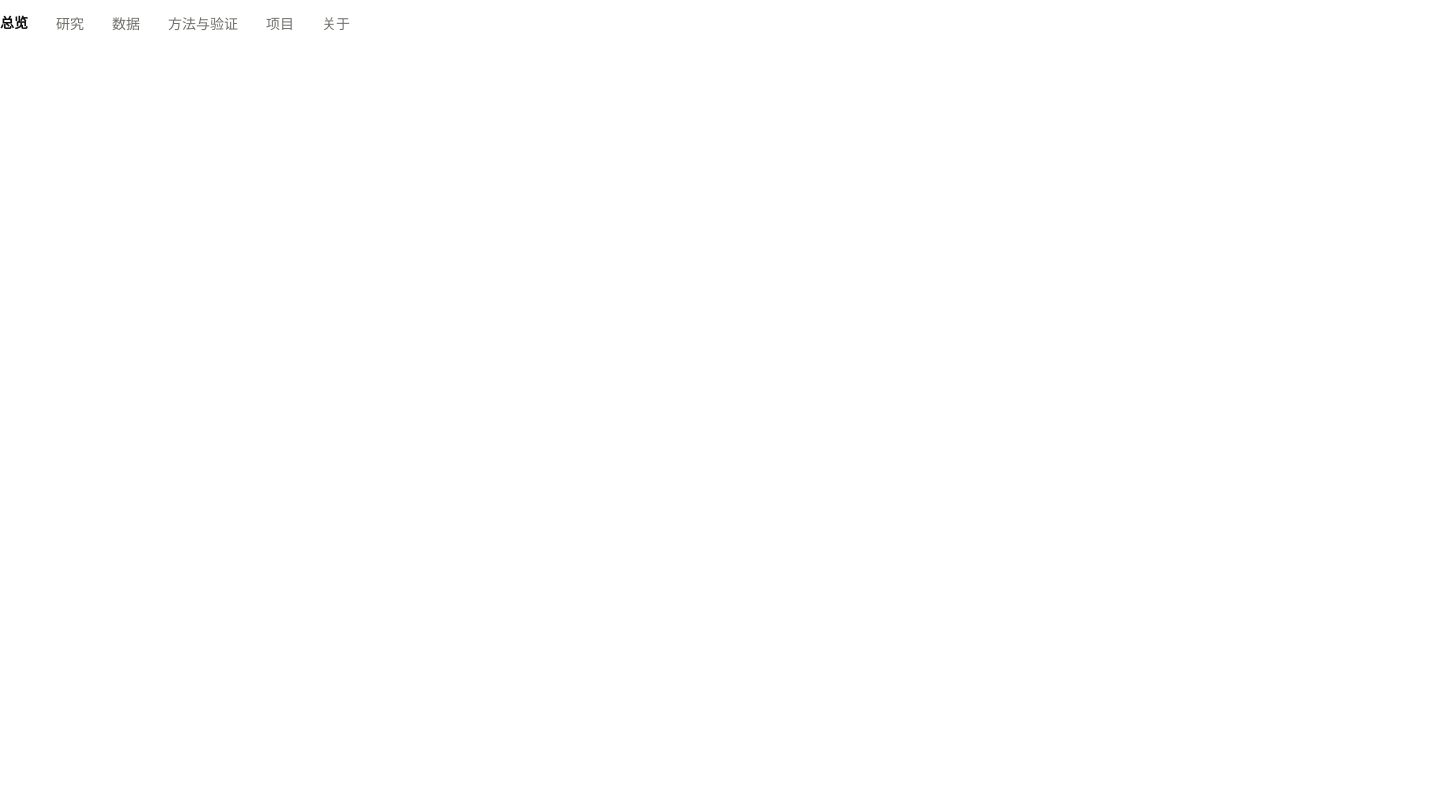
Scenario: primary domain navigation › keeps the research charter merged into the creator statement
This screenshot has width=1440, height=810.
Click the button "关于": coordinates (336, 24) left=322, top=0, right=350, bottom=48
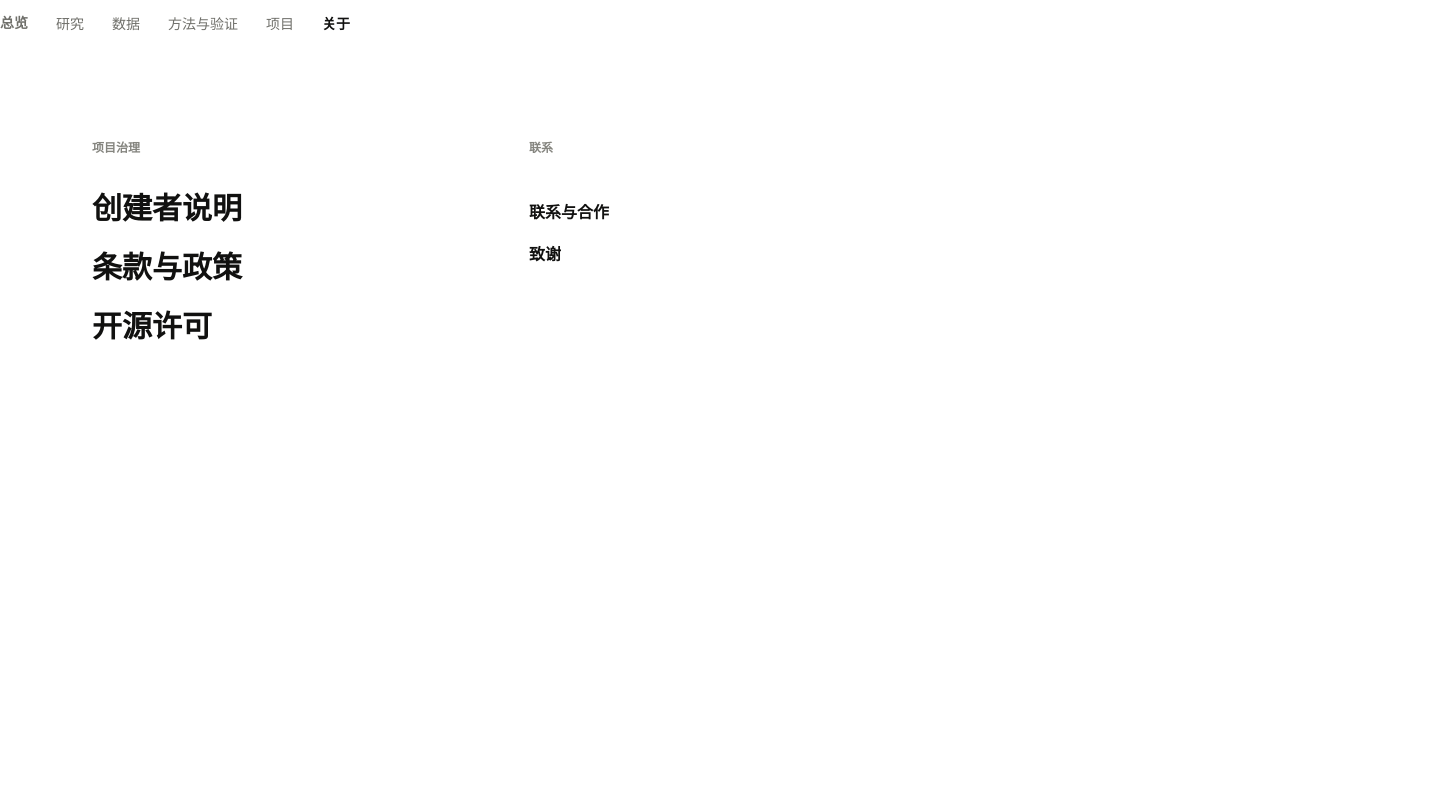
Check: the menu item "创建者说明" is shown, box left=92, top=191, right=414, bottom=250
Check: the menu item "条款与政策" is shown, box left=92, top=250, right=414, bottom=309
